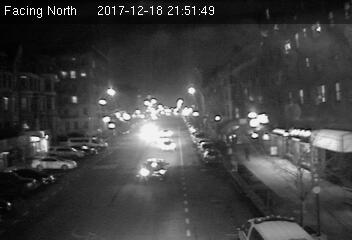car: (138, 157, 168, 181), (201, 149, 223, 164), (158, 139, 177, 151)
police: (240, 213, 307, 240)
